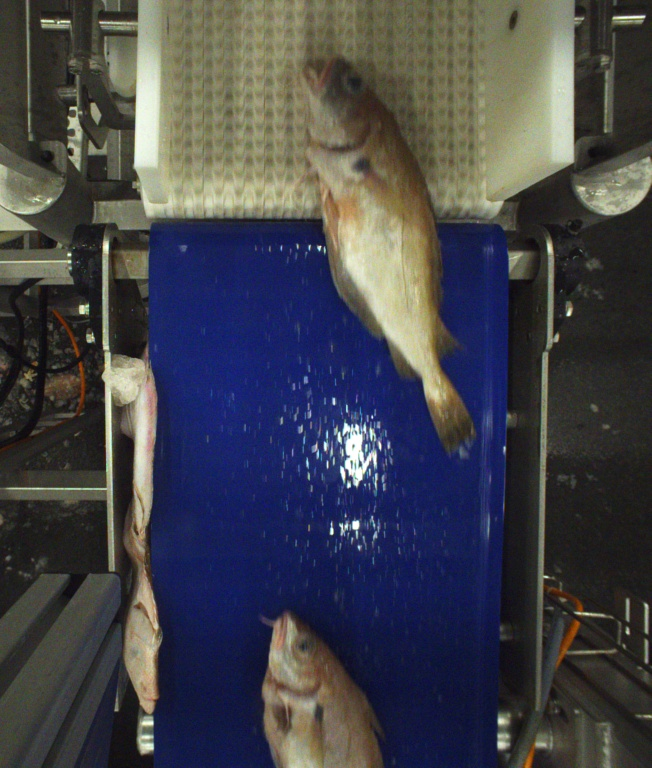BIB: (297, 56, 478, 455)
